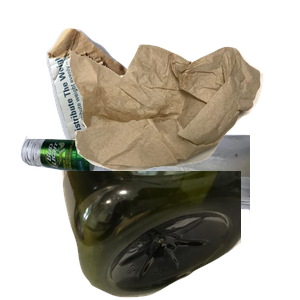cardboard: (44, 26, 209, 186)
glass: (18, 124, 258, 300)
plastic: (60, 171, 300, 300)
trash: (67, 42, 300, 206)
